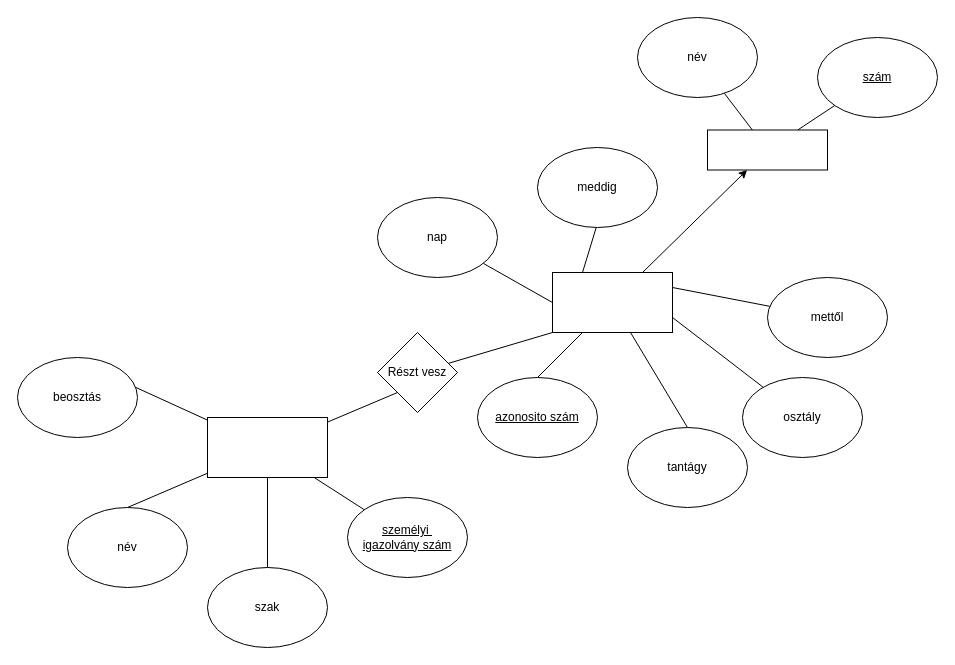
Some shapes in this 955 by 665 pixel diagram are drawn without their labels. The box of each missing label's shape, as (x1, y1, x2, y2) in pixels:
Szemely: (206, 416, 328, 478)
Terem: (706, 129, 828, 170)
Óra: (552, 272, 672, 332)
